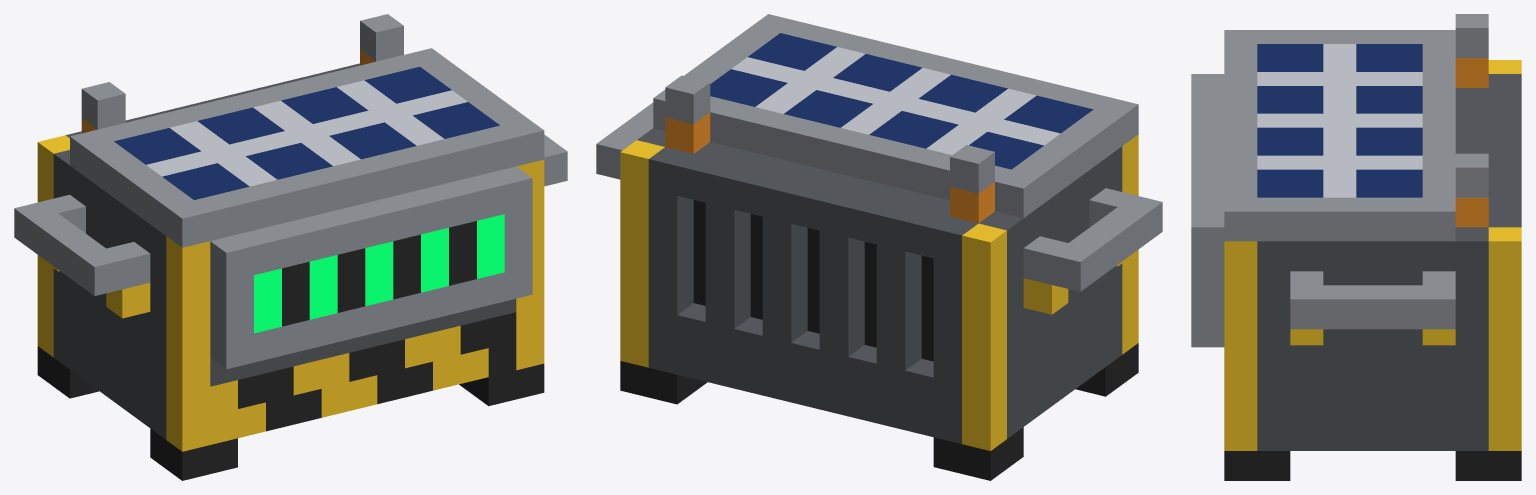
Rendered from Deploy Container.glb.
3 renders of one model, left to right at view 1: azimuth 30°, elevation 25°; view 2: azimuth 150°, elevation 25°; view 3: azimuth 270°, elevation 25°, orthographic. The views are drawn at different scales.
Parts seen in each view (by area): view 1: Bateria_Solar_Voxel; view 2: Bateria_Solar_Voxel; view 3: Bateria_Solar_Voxel.
Boxes of the visible parts, bbox=[...] form: Bateria_Solar_Voxel: bbox=[14, 14, 567, 480]; Bateria_Solar_Voxel: bbox=[596, 14, 1162, 480]; Bateria_Solar_Voxel: bbox=[1191, 14, 1521, 480].
Size of the model in its own units: 1.7 by 1 by 1.
